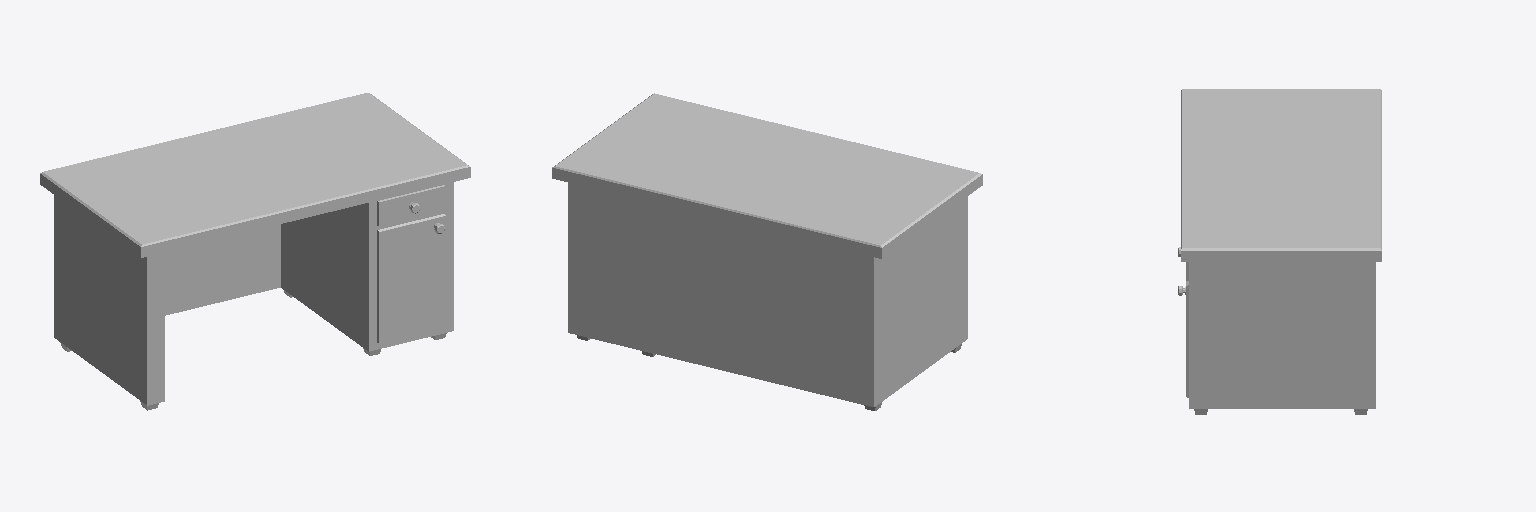
The model's file is Desk_01.obj.
The picture shows the model from 3 angles: view 1: azimuth 30°, elevation 25°; view 2: azimuth 150°, elevation 25°; view 3: azimuth 270°, elevation 25°; orthographic projection.
Visible parts, largest first — view 1: Desk_01_Cube.037; view 2: Desk_01_Cube.037; view 3: Desk_01_Cube.037.
Part boxes in pixels (x1,y1,x2,y2): Desk_01_Cube.037: (40, 93, 470, 410); Desk_01_Cube.037: (552, 93, 982, 410); Desk_01_Cube.037: (1178, 89, 1381, 414).
Bounding box in the file's own units: 9.94 × 5.01 × 5.31.